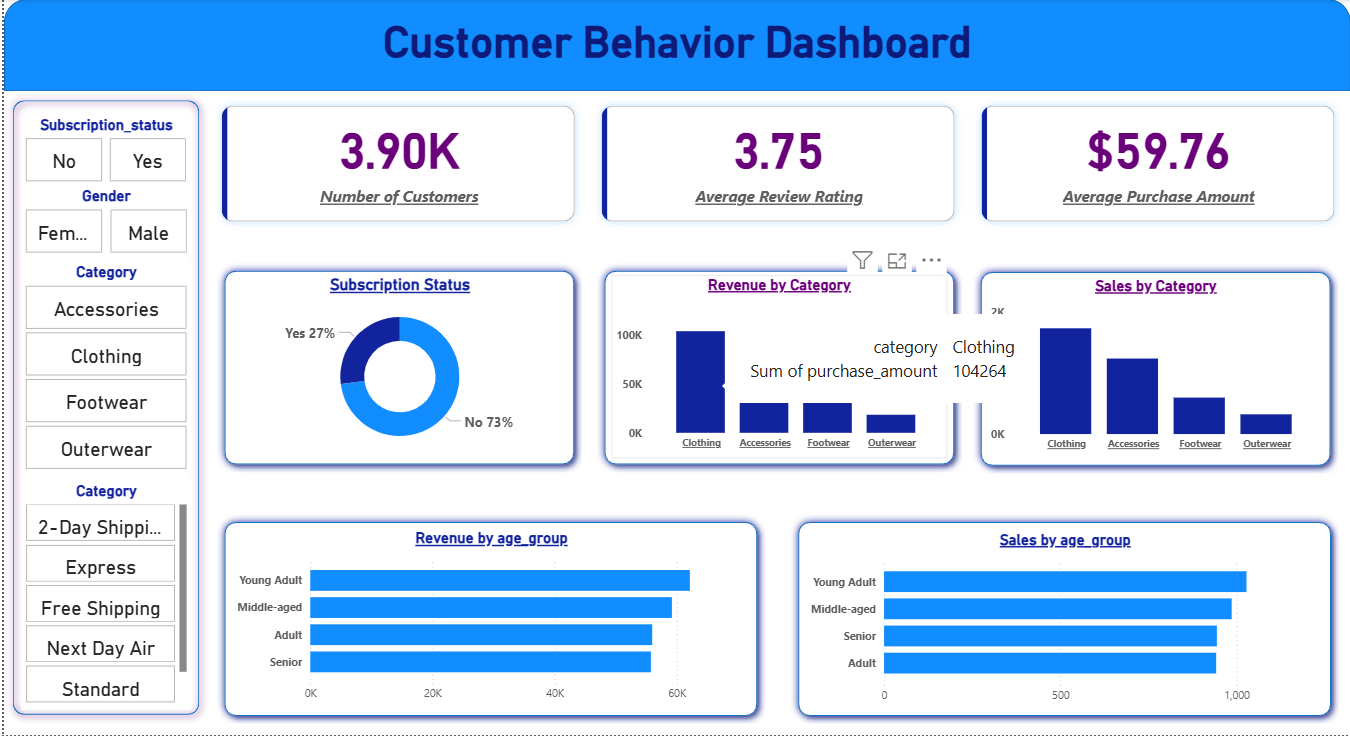

Layout of this report page (visuals, bound fields, positions):
{"tool":"powerbi","page":{"name":"Page 1","canvas":[1500,820],"ordinal":0},"visuals":[{"type":"shape","box":[236.8,573.8,611.4,234],"z":0},{"type":"shape","box":[660.1,293.7,407.5,233.7],"z":1000},{"type":"shape","box":[1078.7,295.3,407.5,233.7],"z":2000},{"type":"cardVisual","fields":{"Data":["customer_behaviour customer.Number of Customers","customer_behaviour customer.Average Review Rating","customer_behaviour customer.Average Purchase Amount"]},"box":[227.4,102.7,1272.9,161.1],"z":3000},{"type":"shape","box":[0,0,1500.3,102.7],"z":4000},{"type":"textbox","box":[0,15.8,1500.3,86.9],"z":5000},{"type":"clusteredColumnChart","title":"Revenue by Category","fields":{"Category":["customer_behaviour customer.category"],"Y":["Sum(customer_behaviour customer.purchase_amount)"]},"box":[677.5,308,374.3,203.7],"z":6000},{"type":"shape","box":[236.9,293.7,407.5,233.7],"z":7000},{"type":"donutChart","title":"Subscription Status","fields":{"Category":["customer_behaviour customer.subscription_status"],"Y":["Count(customer_behaviour customer.customer_id)"]},"box":[254.3,308,372.7,203.7],"z":8000},{"type":"clusteredColumnChart","title":"Sales by Category","fields":{"Category":["customer_behaviour customer.category"],"Y":["CountNonNull(customer_behaviour customer.customer_id)"]},"box":[1094.4,309.5,377.4,203.7],"z":9000},{"type":"shape","box":[0,102.7,227.4,704.4],"z":10000},{"type":"advancedSlicerVisual","title":"Gender","fields":{"Values":["customer_behaviour customer.gender"]},"box":[19,208.5,189.5,79],"z":11000},{"type":"advancedSlicerVisual","title":"Subscription_status","fields":{"Values":["customer_behaviour customer.subscription_status"]},"box":[19,129.5,189.5,79],"z":12000},{"type":"advancedSlicerVisual","title":"Category","fields":{"Values":["customer_behaviour customer.category"]},"box":[19,293.7,189.5,235.3],"z":13000},{"type":"advancedSlicerVisual","title":"Category","fields":{"Values":["customer_behaviour customer.shipping_type"]},"box":[19,537,189.5,254.3],"z":14000},{"type":"clusteredBarChart","title":"Revenue by age_group","fields":{"Category":["customer_behaviour customer.age_group"],"Y":["Sum(customer_behaviour customer.purchase_amount)"]},"box":[253.5,590.5,579.4,201.9],"z":15000},{"type":"shape","box":[876,573.8,611.4,234],"z":16000},{"type":"clusteredBarChart","title":"Sales by age_group","fields":{"Category":["customer_behaviour customer.age_group"],"Y":["CountNonNull(customer_behaviour customer.customer_id)"]},"box":[892.7,591.9,579.4,201.9],"z":17000}]}

Visuals, with their boxes in screenshot pixels (x1, y1, x2, y2), scaled from the page's 1500x820 canvas onto the 1350x736 screenshot:
shape: [left=213, top=515, right=763, bottom=725]
shape: [left=594, top=264, right=961, bottom=473]
shape: [left=971, top=265, right=1338, bottom=475]
cardVisual - customer_behaviour customer.Number of Customers x customer_behaviour customer.Average Review Rating: [left=205, top=92, right=1349, bottom=237]
shape: [left=0, top=0, right=1349, bottom=92]
textbox: [left=0, top=14, right=1349, bottom=92]
"Revenue by Category" clusteredColumnChart: [left=610, top=276, right=947, bottom=459]
shape: [left=213, top=264, right=580, bottom=473]
"Subscription Status" donutChart: [left=229, top=276, right=564, bottom=459]
"Sales by Category" clusteredColumnChart: [left=985, top=278, right=1325, bottom=461]
shape: [left=0, top=92, right=205, bottom=724]
"Gender" advancedSlicerVisual: [left=17, top=187, right=188, bottom=258]
"Subscription_status" advancedSlicerVisual: [left=17, top=116, right=188, bottom=187]
"Category" advancedSlicerVisual: [left=17, top=264, right=188, bottom=475]
"Category" advancedSlicerVisual: [left=17, top=482, right=188, bottom=710]
"Revenue by age_group" clusteredBarChart: [left=228, top=530, right=750, bottom=711]
shape: [left=788, top=515, right=1339, bottom=725]
"Sales by age_group" clusteredBarChart: [left=803, top=531, right=1325, bottom=712]
